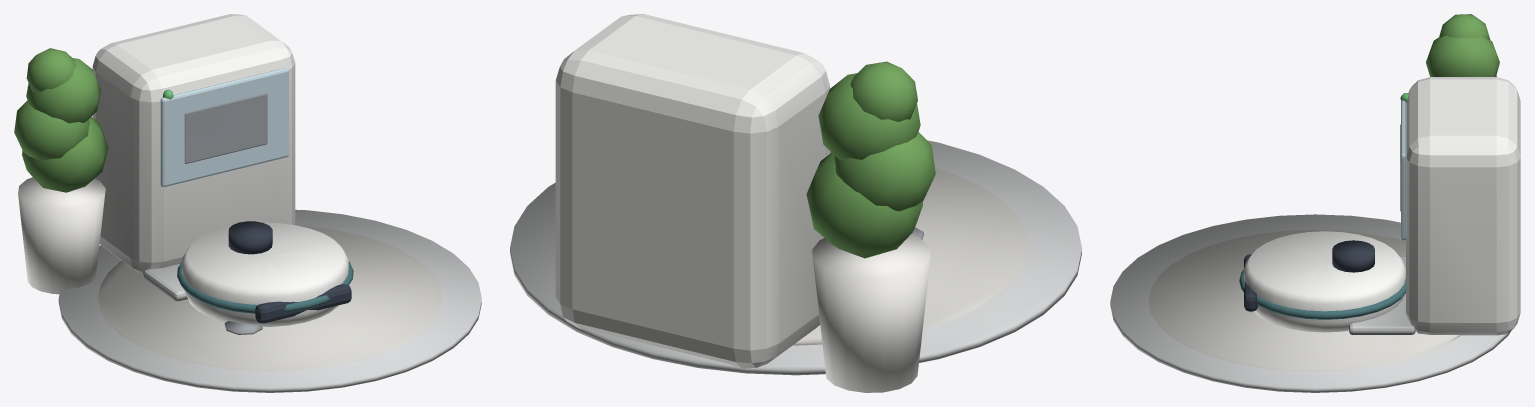
File: robotVacuumDock.glb
The picture shows the model from 3 angles, left to right: view 1: azimuth 30°, elevation 25°; view 2: azimuth 150°, elevation 25°; view 3: azimuth 270°, elevation 25°; orthographic projection. The views are drawn at different scales.
Visible parts, largest first — view 1: body, robot; view 2: body; view 3: body, robot.
Part boxes in pixels (left/top/right/bottom): body: left=14, top=14, right=481, bottom=392; robot: left=177, top=221, right=353, bottom=334; body: left=510, top=14, right=1081, bottom=392; body: left=1110, top=14, right=1520, bottom=392; robot: left=1239, top=231, right=1405, bottom=332.
Bounding box in the file's own units: 0.86 × 0.5188 × 0.86.
